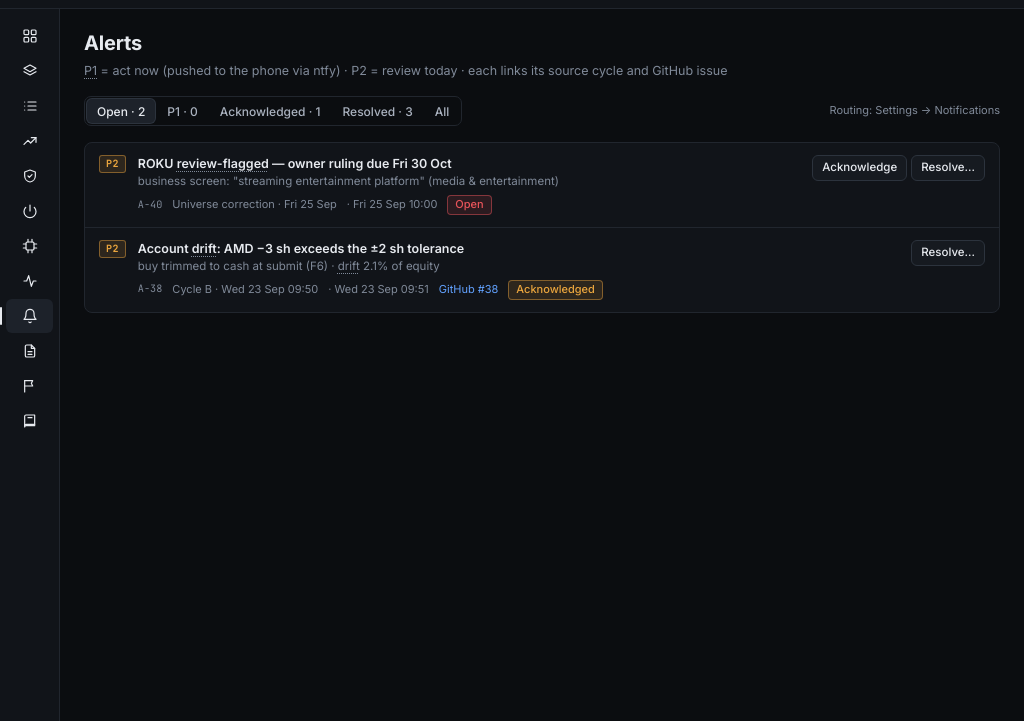
Test case: console M1–M3 screens › resolves an alert with a note
Click the button "Resolve…" in the row of "— owner ruling due Fri 30 Oct" at (948, 168), box [911,155,985,181]
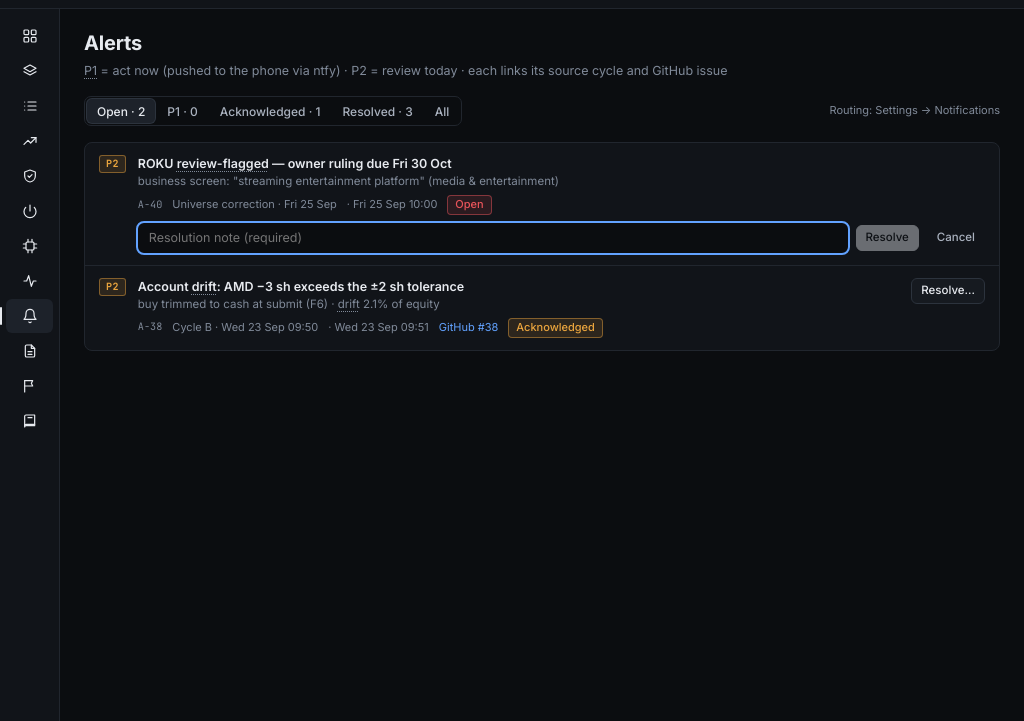
Type "Known and fixed" into the field labelled "Resolution note" at (493, 238), box [138,223,848,253]
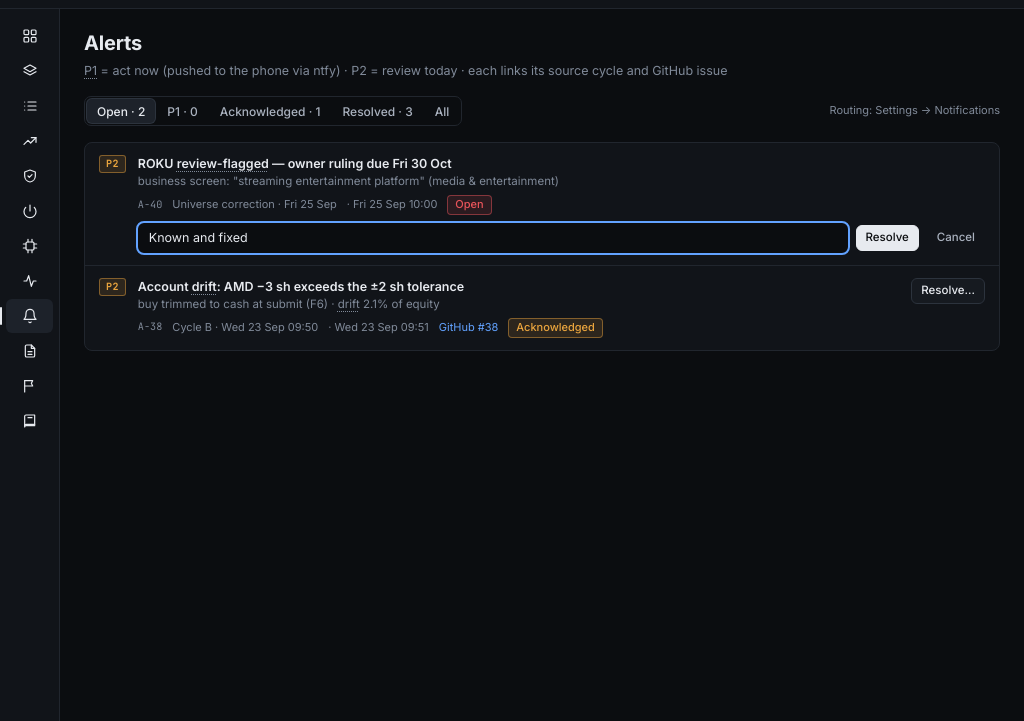
Click the button "Resolve" at (887, 238), box [856,225,919,251]
(page scrolled)
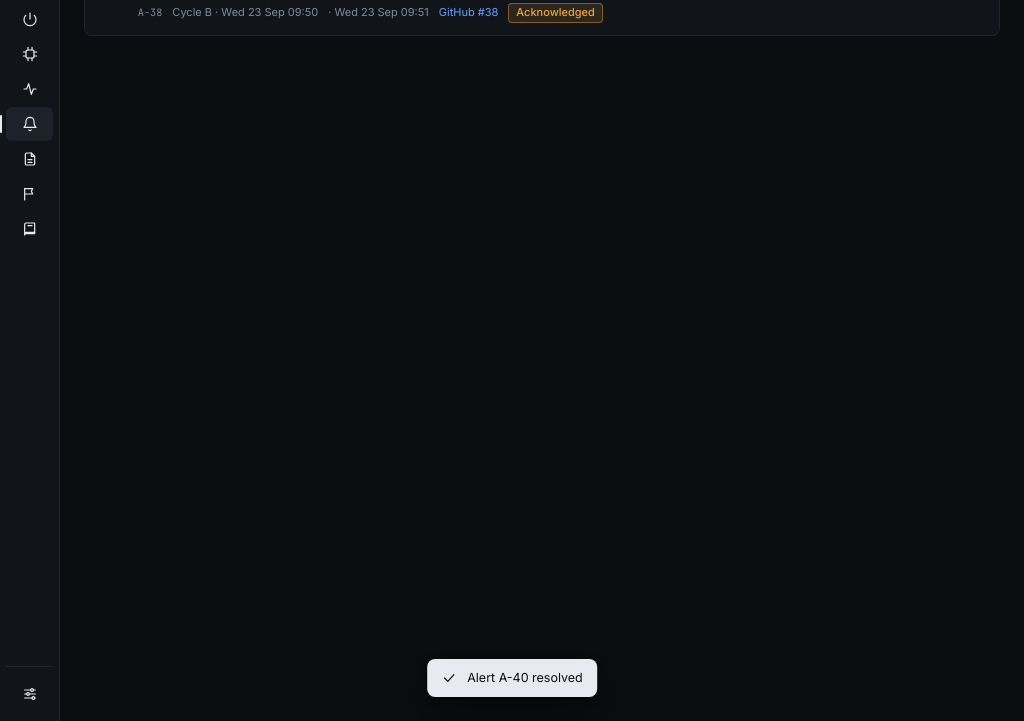
Expected: the text "Alert A-40 resolved" is shown, [467,669,583,687]
